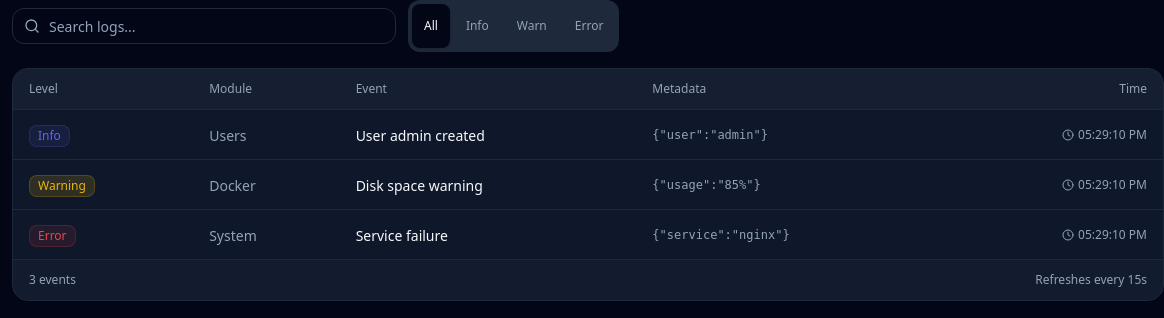
Test: LogsPage › filters logs by severity buttons
Click the button "Warn". click: (532, 26)
box: 505,4 -> 559,48
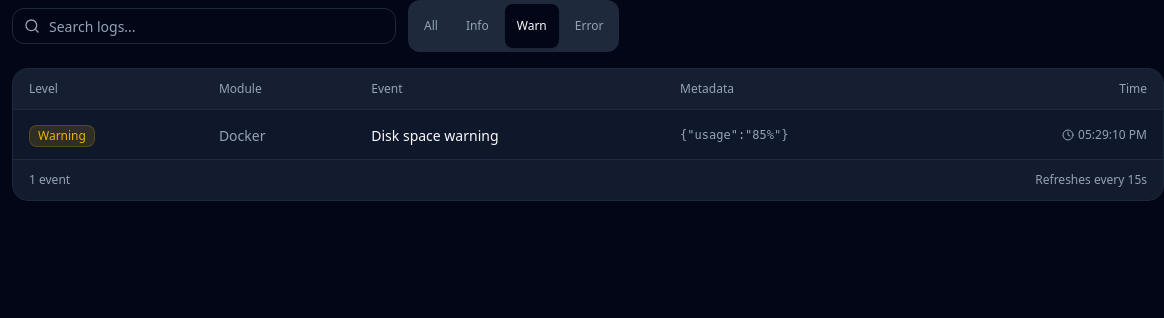
Expected: the text "User admin created" is gone
Expected: the text "Service failure" is gone
